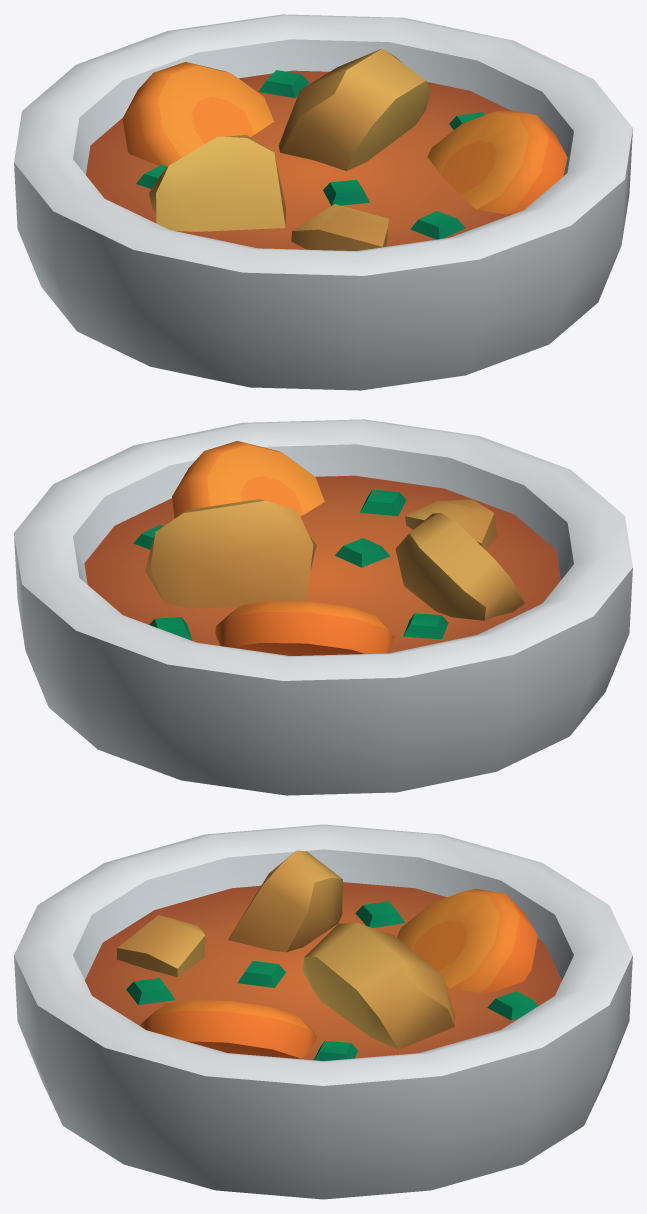
The model's file is stew.glb.
The picture shows the model from 3 angles, top to bottom: view 1: azimuth 30°, elevation 25°; view 2: azimuth 150°, elevation 25°; view 3: azimuth 270°, elevation 25°; orthographic projection.
Parts seen in each view (by area): view 1: food_stew_Sphere.097; view 2: food_stew_Sphere.097; view 3: food_stew_Sphere.097.
Boxes of the visible parts, x1,y1,x2,y2 form: food_stew_Sphere.097: (14, 14, 632, 390); food_stew_Sphere.097: (14, 419, 632, 795); food_stew_Sphere.097: (14, 824, 632, 1199).
Size of the model in its own units: 0.95 by 0.3697 by 0.95.
Materials: 1 (1 with a texture image).
